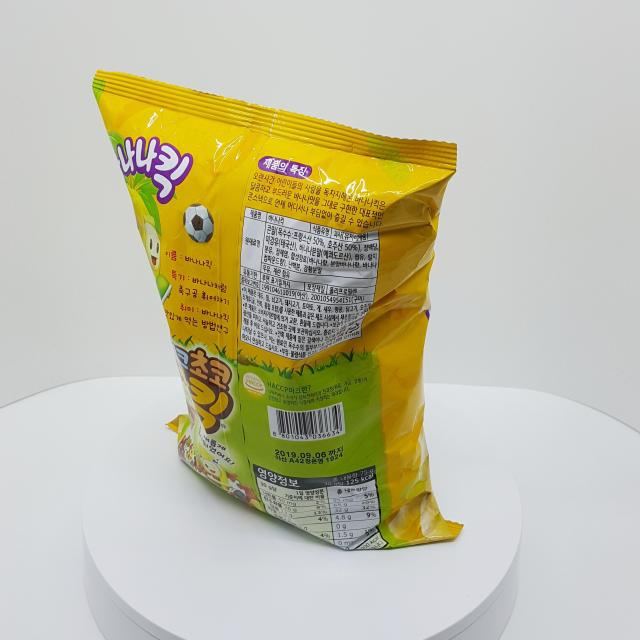-75G: (93, 71, 465, 552)
